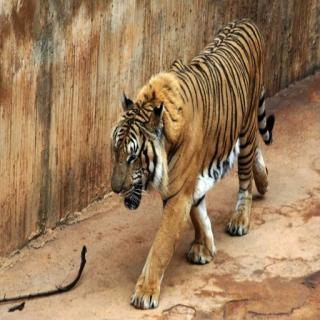Tiger: (100, 10, 284, 308)
